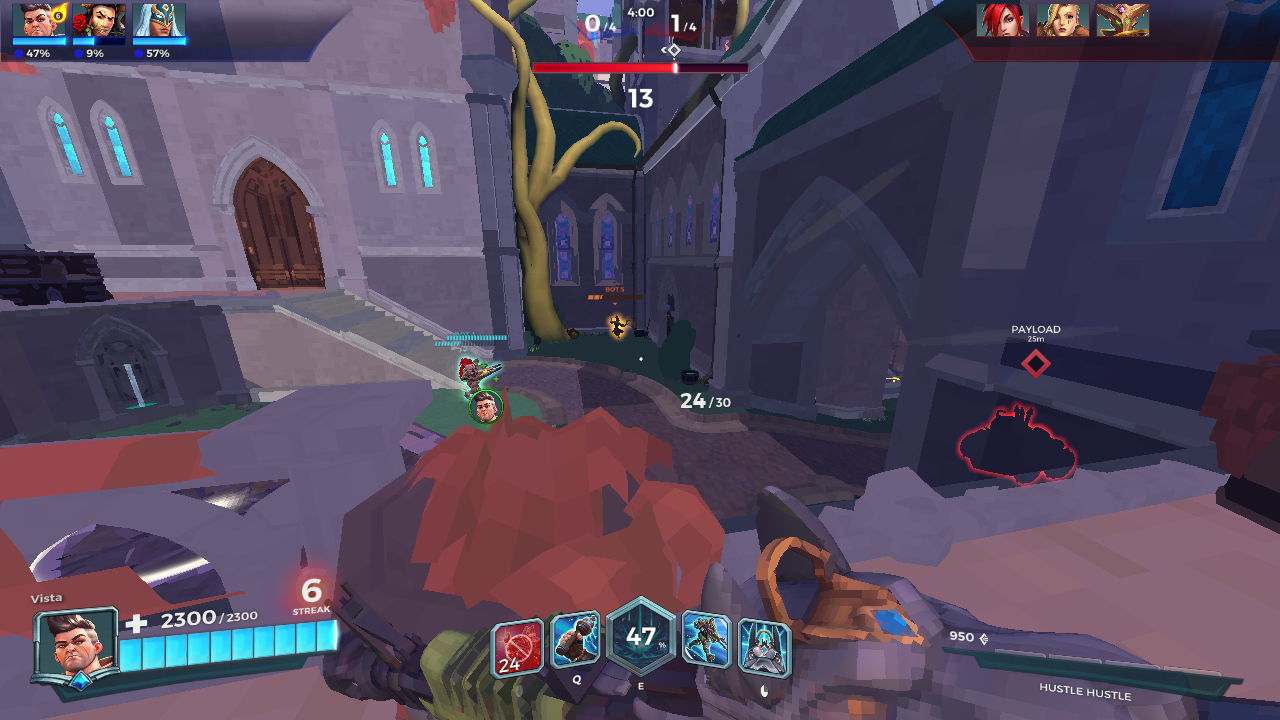model: (606, 311, 627, 340)
